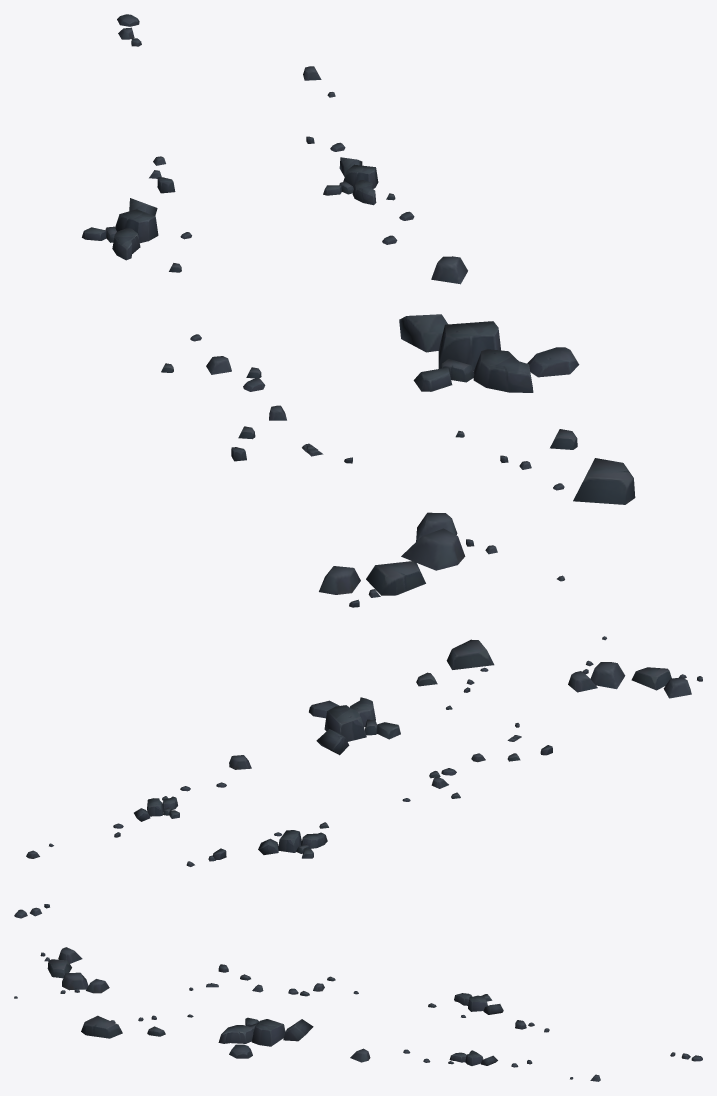
File: shitou05.fbx
The picture shows the model from 3 angles, top to bottom: view 1: azimuth 30°, elevation 25°; view 2: azimuth 150°, elevation 25°; view 3: azimuth 270°, elevation 25°; orthographic projection. The views are drawn at different scales.
Parts seen in each view (by area): view 1: shitou05; view 2: shitou05; view 3: shitou05.
Part boxes in pixels (x1,y1,x2,y2): shitou05: (82, 14, 635, 607); shitou05: (14, 636, 702, 918); shitou05: (14, 947, 702, 1081).
Bounding box in the file's own units: 4761 × 297 × 10725.
